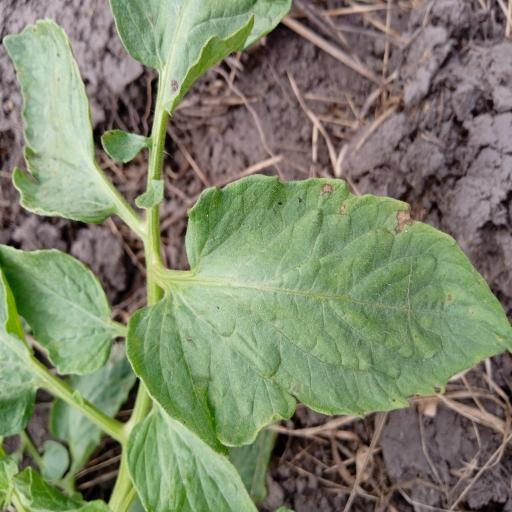Tomato_Mildiou: (116, 166, 512, 453)
